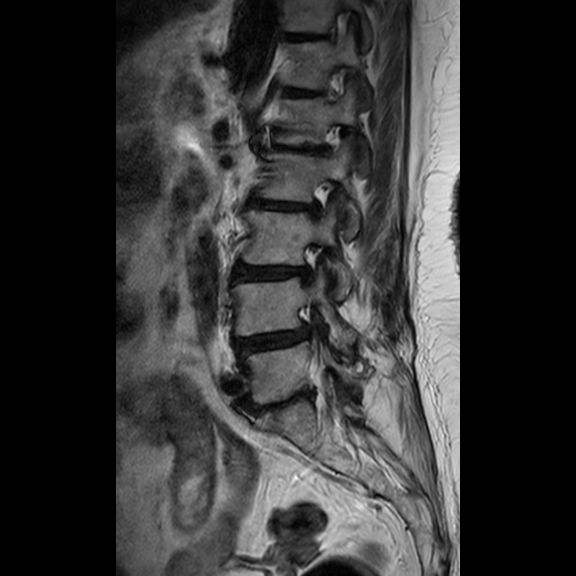LFS1: (290, 231, 332, 294), (299, 171, 344, 227), (310, 111, 346, 165)
